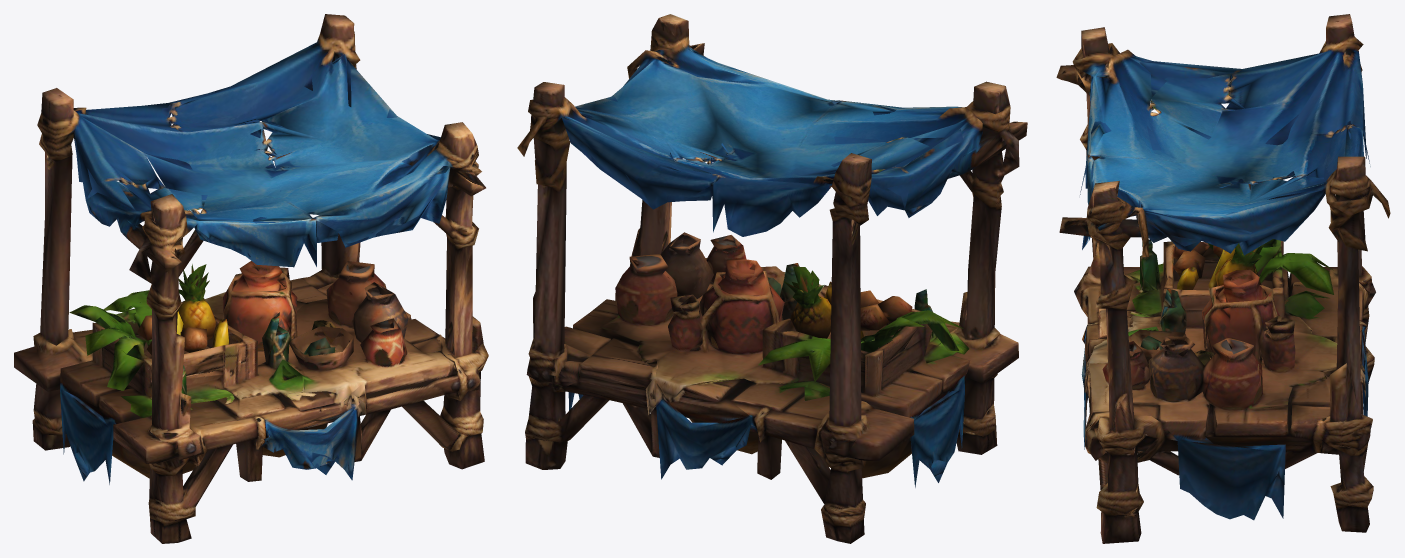
The model's file is stall-tarp-v2-original.glb.
3 renders of one model, left to right at view 1: azimuth 30°, elevation 25°; view 2: azimuth 150°, elevation 25°; view 3: azimuth 270°, elevation 25°, orthographic. The views are drawn at different scales.
Visible parts, largest first — view 1: tripo_node_291facad-19ee-4f34-a923-aa34220345fd; view 2: tripo_node_291facad-19ee-4f34-a923-aa34220345fd; view 3: tripo_node_291facad-19ee-4f34-a923-aa34220345fd.
Boxes of the visible parts, x1,y1,x2,y2 form: tripo_node_291facad-19ee-4f34-a923-aa34220345fd: (14,14,488,543); tripo_node_291facad-19ee-4f34-a923-aa34220345fd: (517,14,1027,543); tripo_node_291facad-19ee-4f34-a923-aa34220345fd: (1056,14,1390,543).
Size of the model in its own units: 0.9835 by 0.9446 by 0.7668.
Materials: 1 (1 with a texture image).
